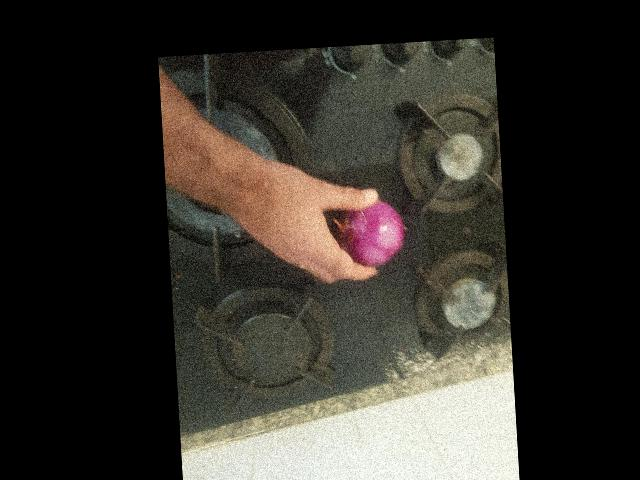onion: (336, 197, 409, 269)
